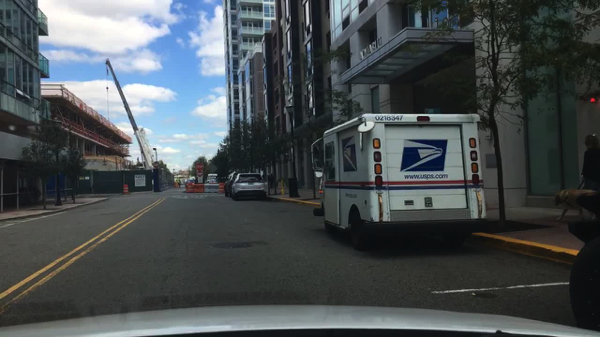car: (310, 111, 488, 252), (104, 56, 161, 170), (229, 172, 268, 202), (222, 170, 239, 198), (206, 173, 219, 184), (184, 178, 197, 187)
motor: (563, 191, 598, 333)
person: (576, 132, 598, 192), (268, 173, 276, 190), (261, 171, 267, 183), (177, 178, 182, 188)
traffic sign: (195, 162, 206, 171), (152, 160, 161, 170), (196, 174, 204, 185)
